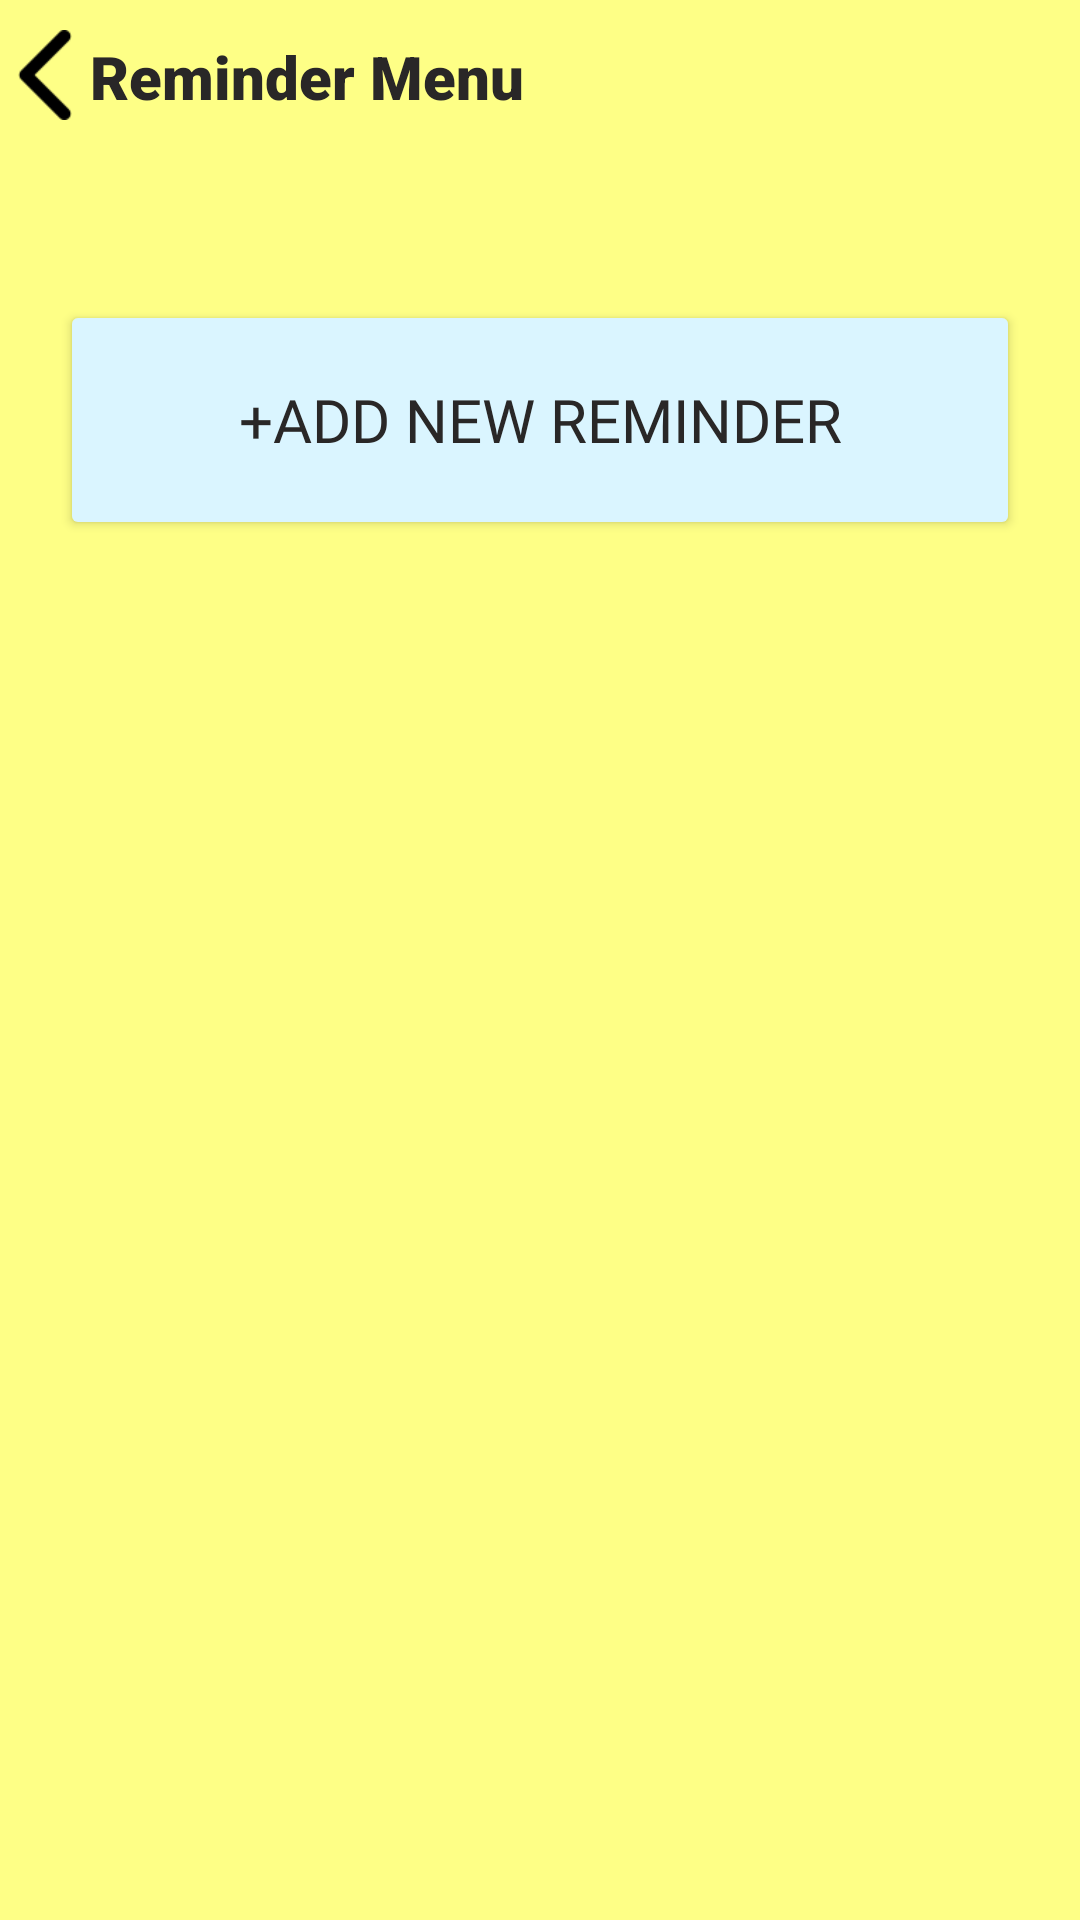

Where to tap for icons on this 1080 × 1920 app screen, as point (x, y):
back: point (45, 75)
